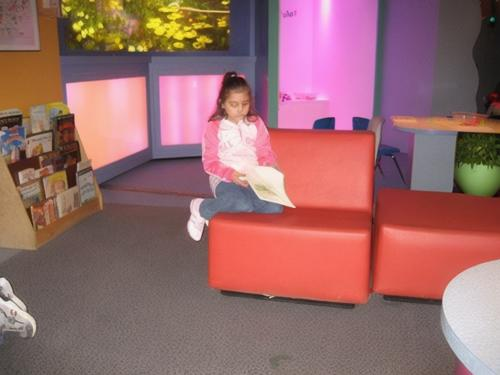chair: (205, 127, 375, 311), (351, 117, 408, 187)
person: (188, 71, 288, 245)
person/foot: (188, 197, 205, 241)
person/hand: (230, 173, 249, 189)
person/head: (219, 79, 252, 119)
pottedplant: (453, 131, 500, 197)
